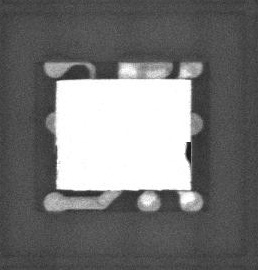DIE_BROKEN: (183, 140, 192, 162)
